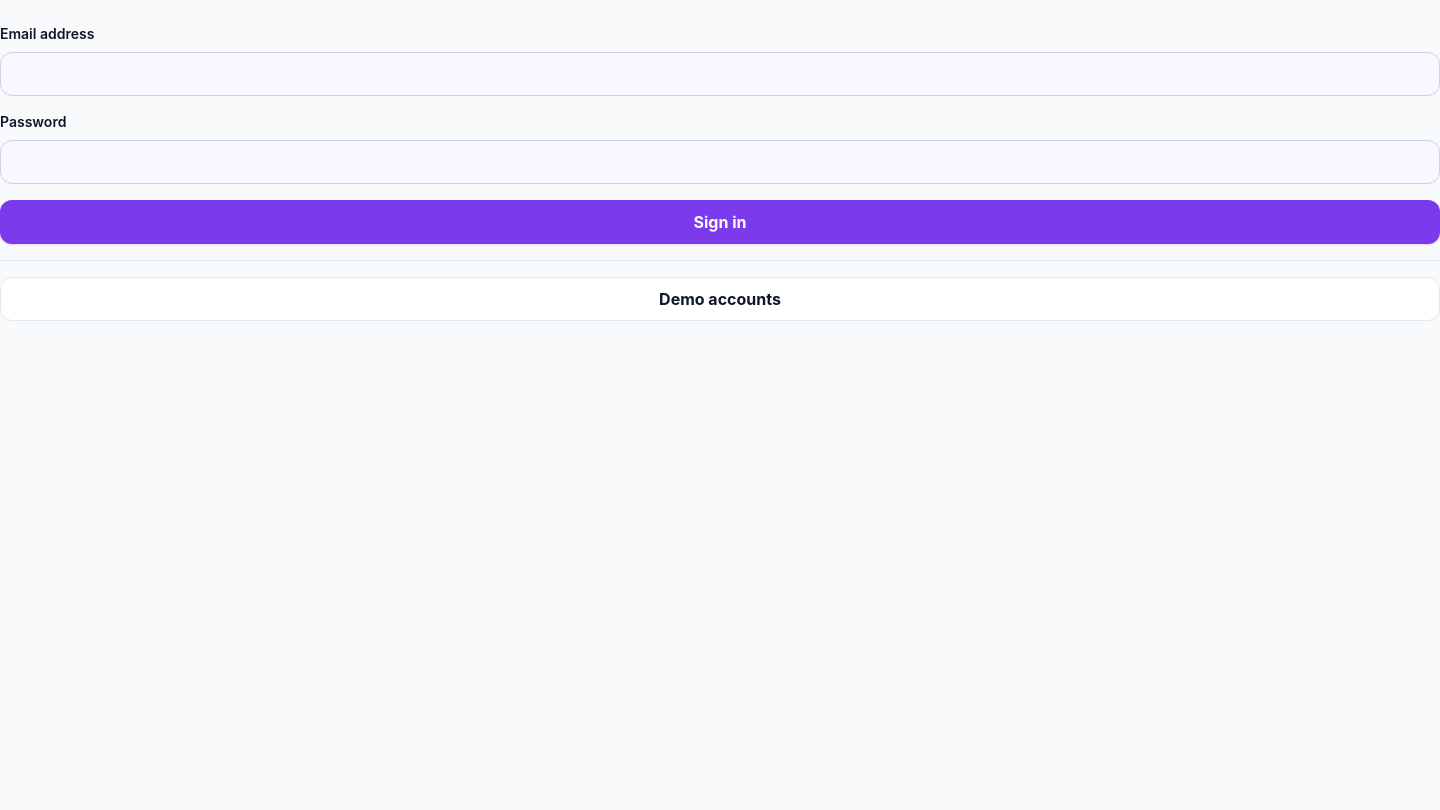
it: LoginForm › opens the modal when Demo accounts button is clicked and shows property and role options
Click the button "Demo accounts" at coordinates (720, 299), box 0,277 -> 1439,321
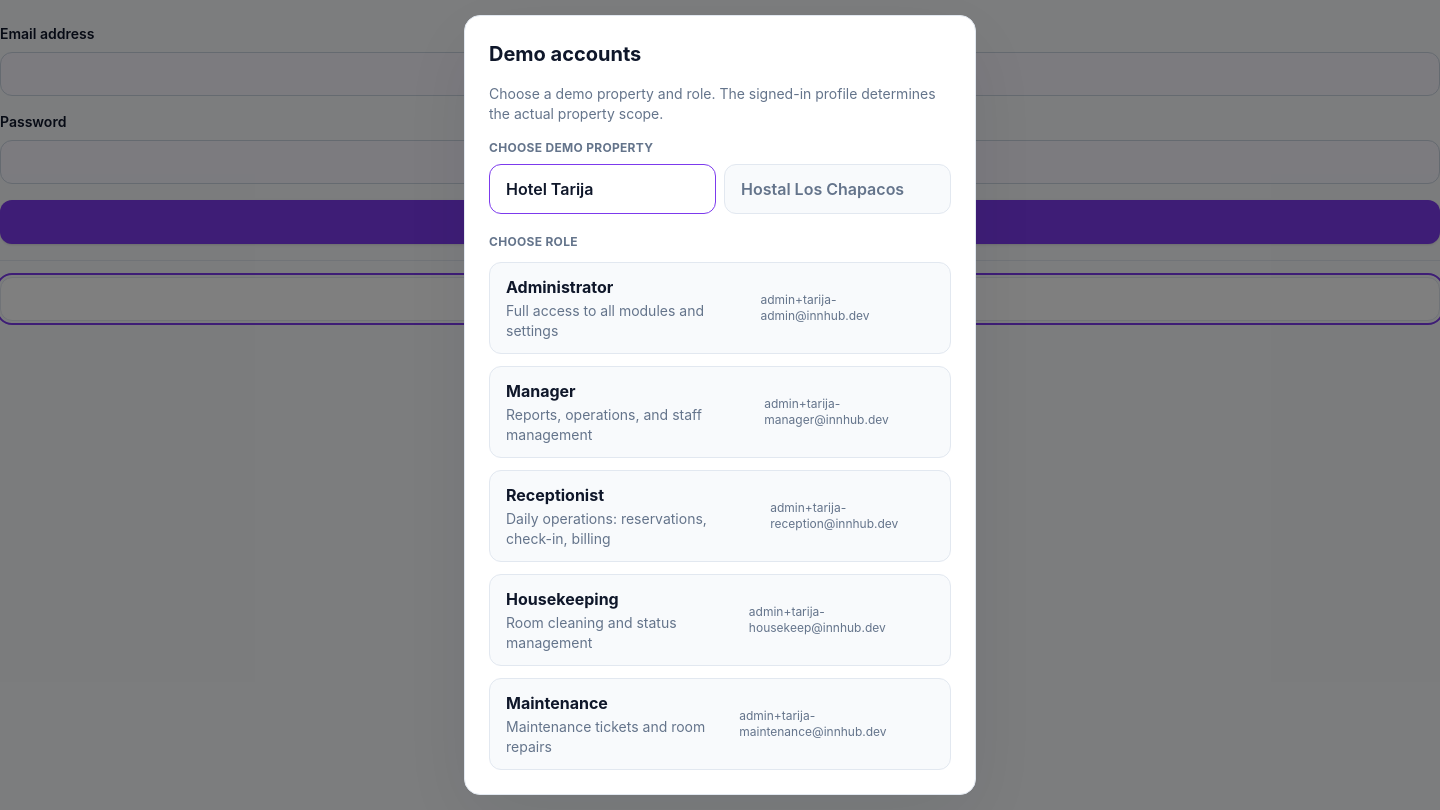
Now the heading "Demo accounts" is shown, box 489,42 -> 641,66
Now the text "Choose a demo property and role" is shown, box 489,85 -> 936,122
Now the text "Choose demo property" is shown, box 489,140 -> 653,155
